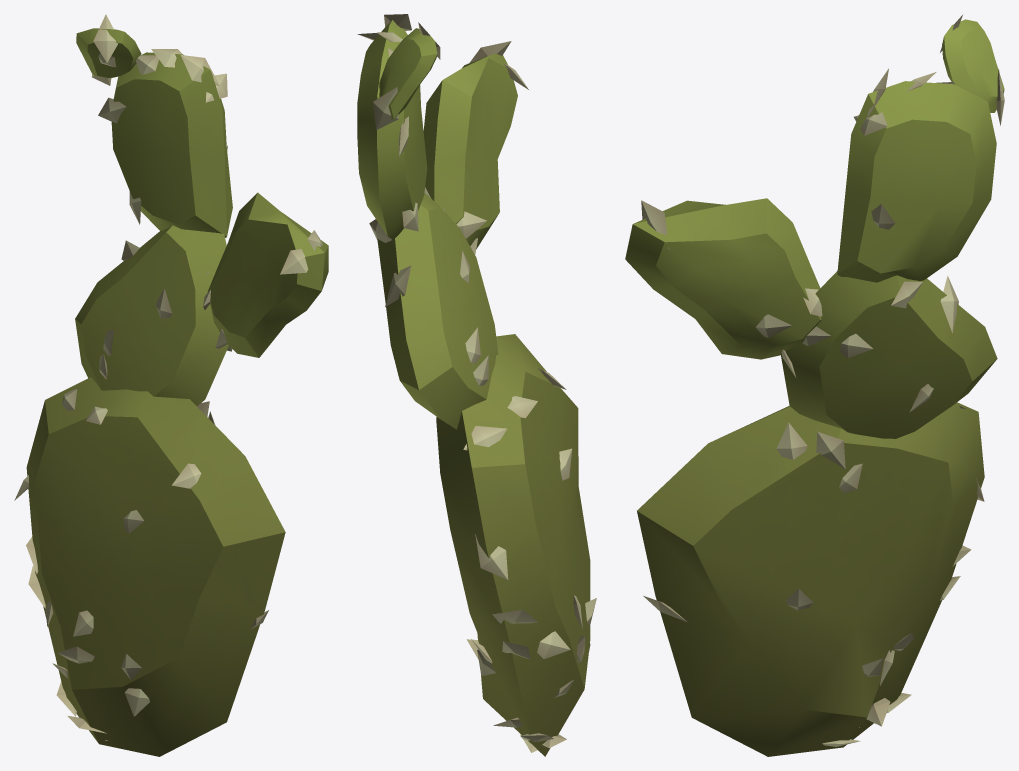
The model's file is Cactus5.fbx.
The picture shows the model from 3 angles, left to right: view 1: azimuth 30°, elevation 25°; view 2: azimuth 150°, elevation 25°; view 3: azimuth 270°, elevation 25°; orthographic projection. The views are drawn at different scales.
Parts seen in each view (by area): view 1: Cactus5; view 2: Cactus5; view 3: Cactus5.
Part boxes in pixels (bbox=[...]): Cactus5: bbox=[14, 14, 328, 756]; Cactus5: bbox=[357, 14, 596, 756]; Cactus5: bbox=[625, 15, 1004, 756].
Size of the model in its own units: 109 by 374 by 168.
